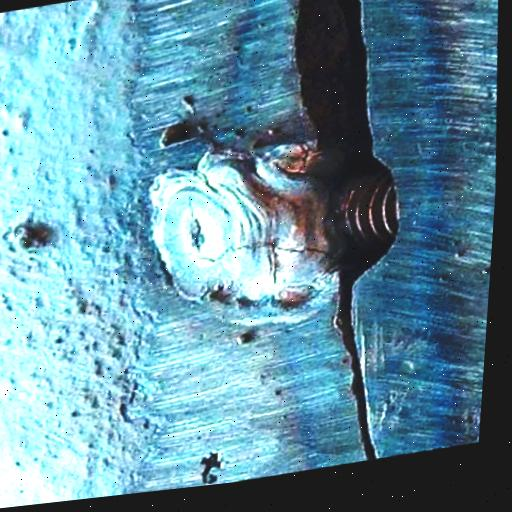crack: (253, 0, 432, 477)
